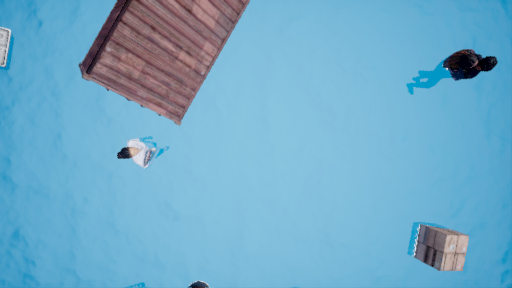person: (399, 48, 493, 104), (118, 130, 180, 170)
